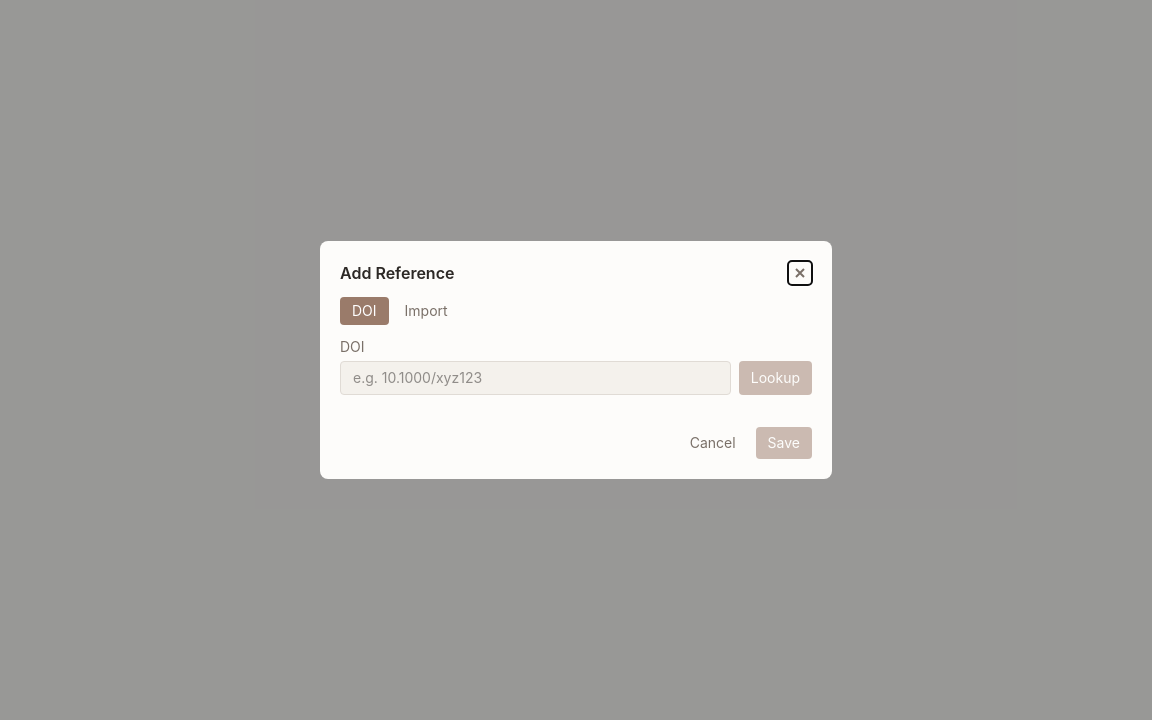
Test: AddReferenceDialog › displays preview card on successful lookup
Step 1. Type "10.1000/xyz" into the field with test id "add-reference-doi-input" → (535, 378), box x1=340 y1=361 x2=731 y2=395
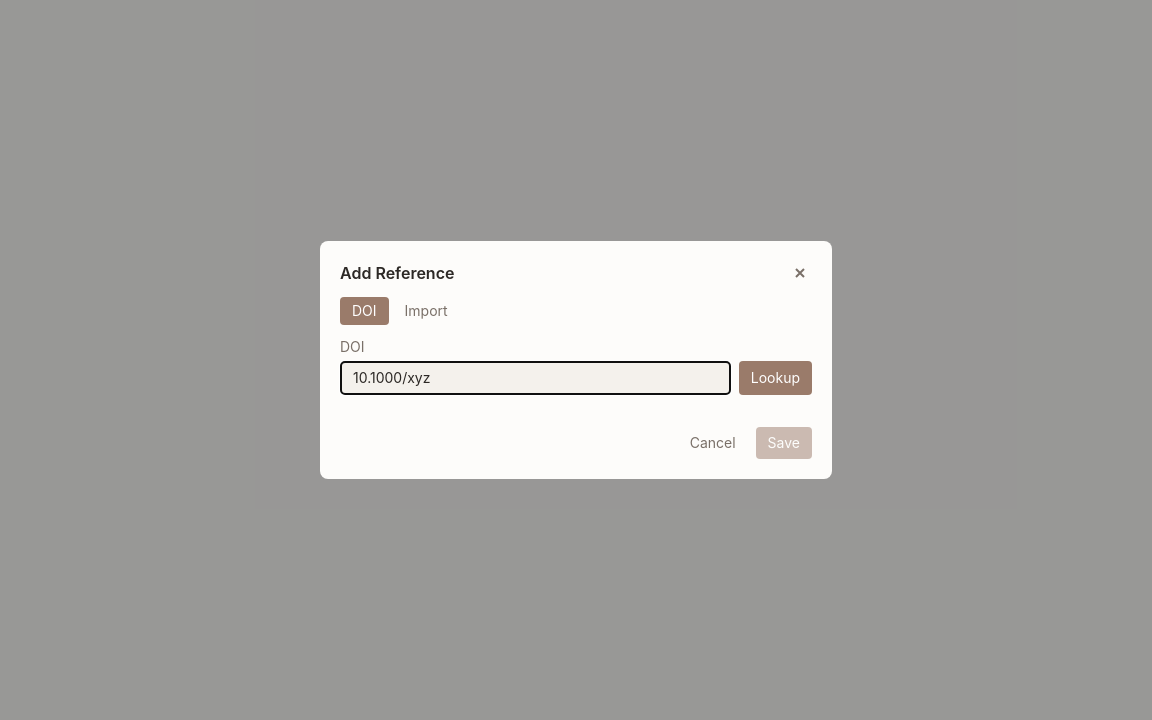
Step 2. Click the button with test id "add-reference-lookup-btn" → (775, 378), box x1=739 y1=361 x2=812 y2=395
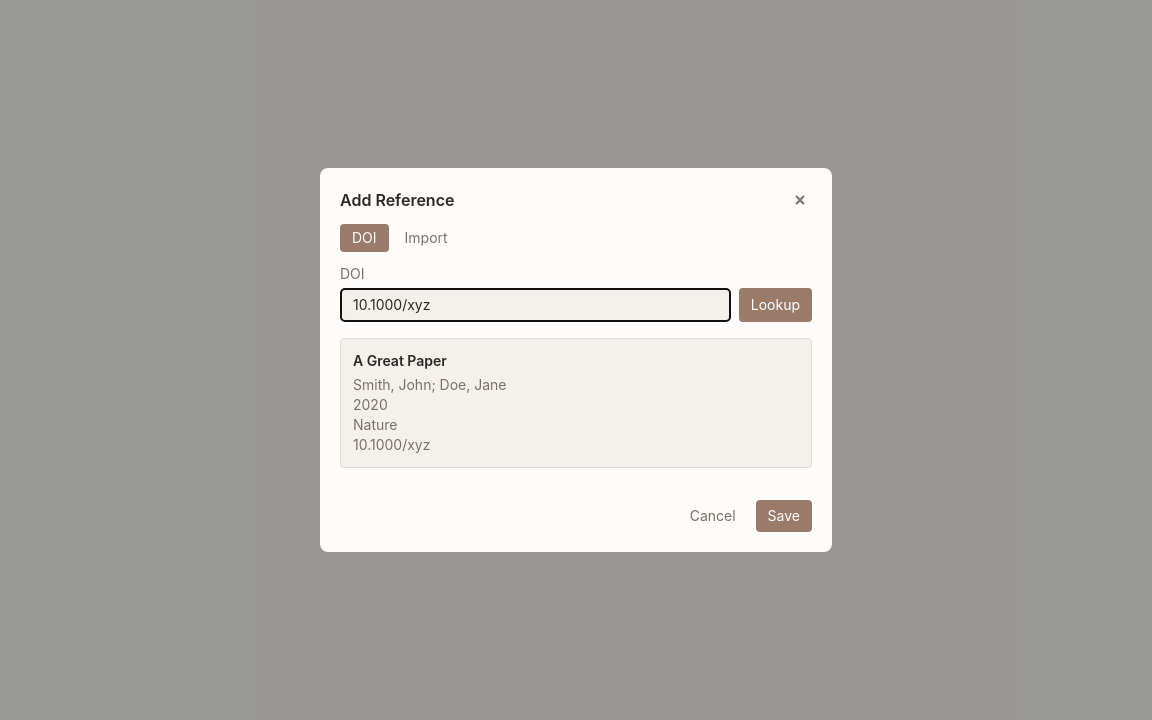
Check: the element with test id "add-reference-preview" is shown, box x1=340 y1=338 x2=812 y2=468
Check: the element with test id "add-reference-preview" shows "A Great Paper", box x1=353 y1=352 x2=447 y2=369
Check: the element with test id "add-reference-preview" shows "Smith, John", box x1=353 y1=376 x2=506 y2=393
